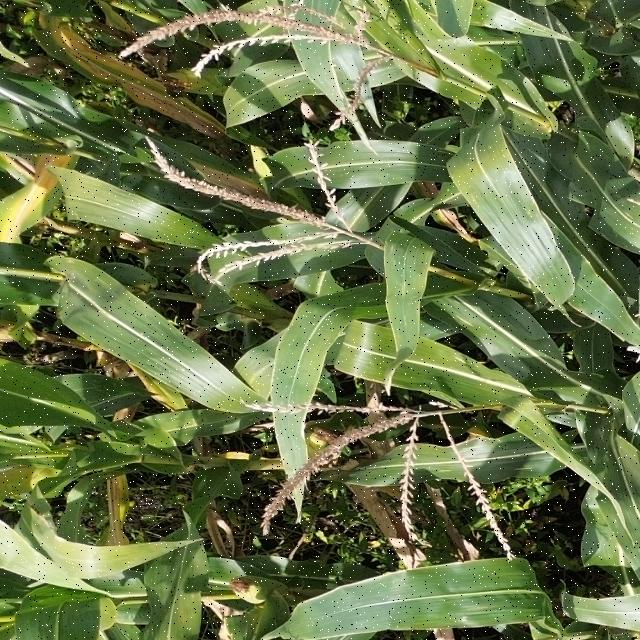gray-leaf-spot: (441, 460, 541, 484)
northern-leaf-blight: (63, 33, 233, 134), (98, 474, 154, 556)
southern-leaf-blight: (465, 100, 572, 225), (175, 414, 279, 446), (436, 5, 528, 41)
